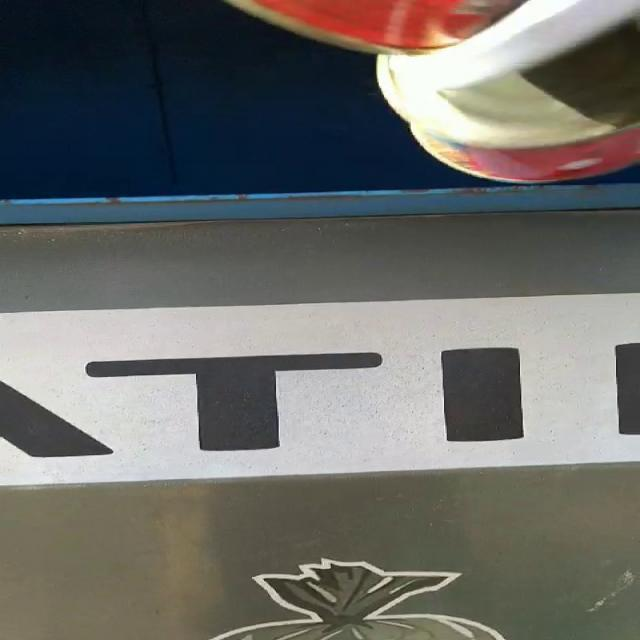Bin: (1, 0, 640, 640)
Metal: (231, 0, 640, 181)
